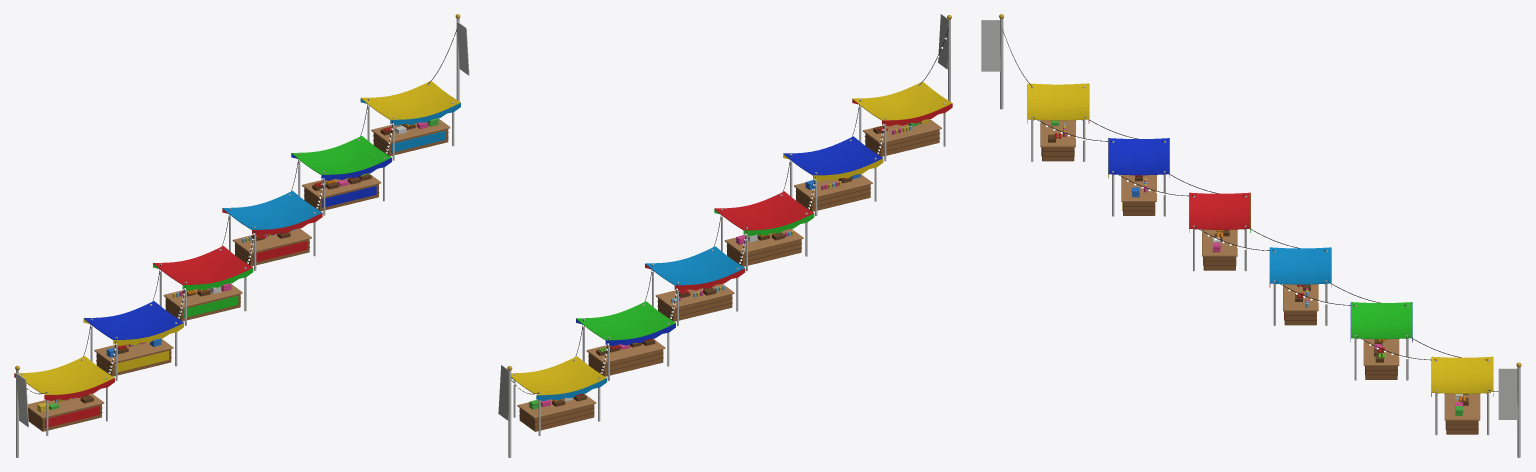
Rendered from tf-market.glb.
3 renders of one model, left to right at view 1: azimuth 30°, elevation 25°; view 2: azimuth 210°, elevation 25°; view 3: azimuth 270°, elevation 25°, orthographic. The views are drawn at different scales.
Parts seen in each view (by area): view 1: tf-market; view 2: tf-market; view 3: tf-market.
Boxes of the visible parts, bbox=[...] form: tf-market: bbox=[14, 14, 469, 457]; tf-market: bbox=[498, 14, 952, 457]; tf-market: bbox=[981, 14, 1521, 457].
Bounding box in the file's own units: 51.3 × 6.46 × 33.41.
